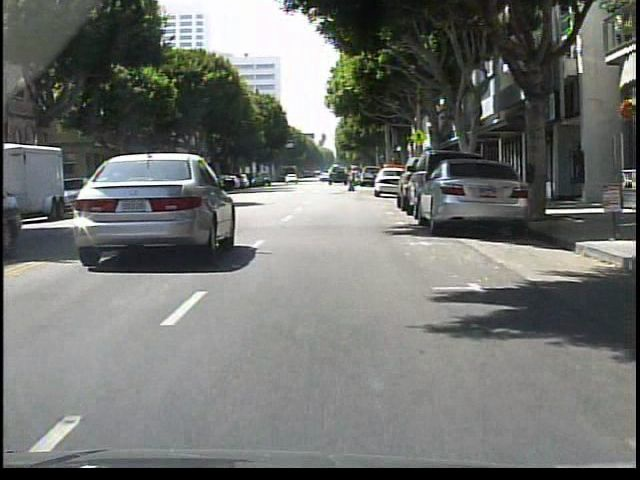person: (346, 165, 360, 193)
